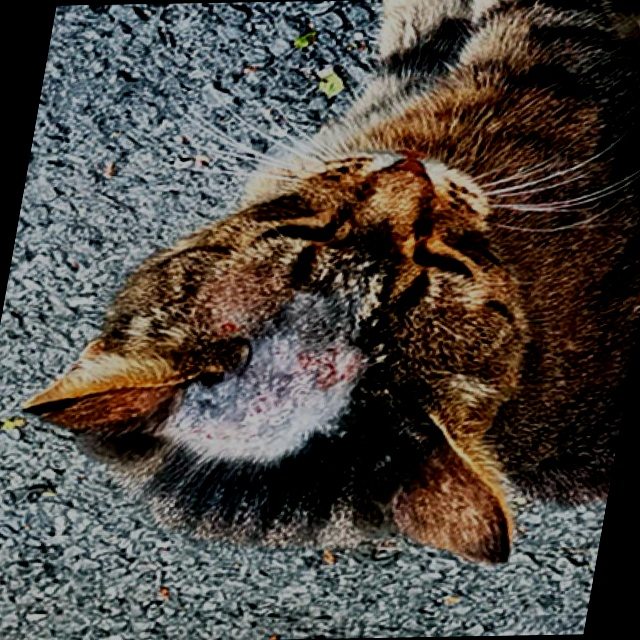ringworm: (153, 266, 378, 469)
